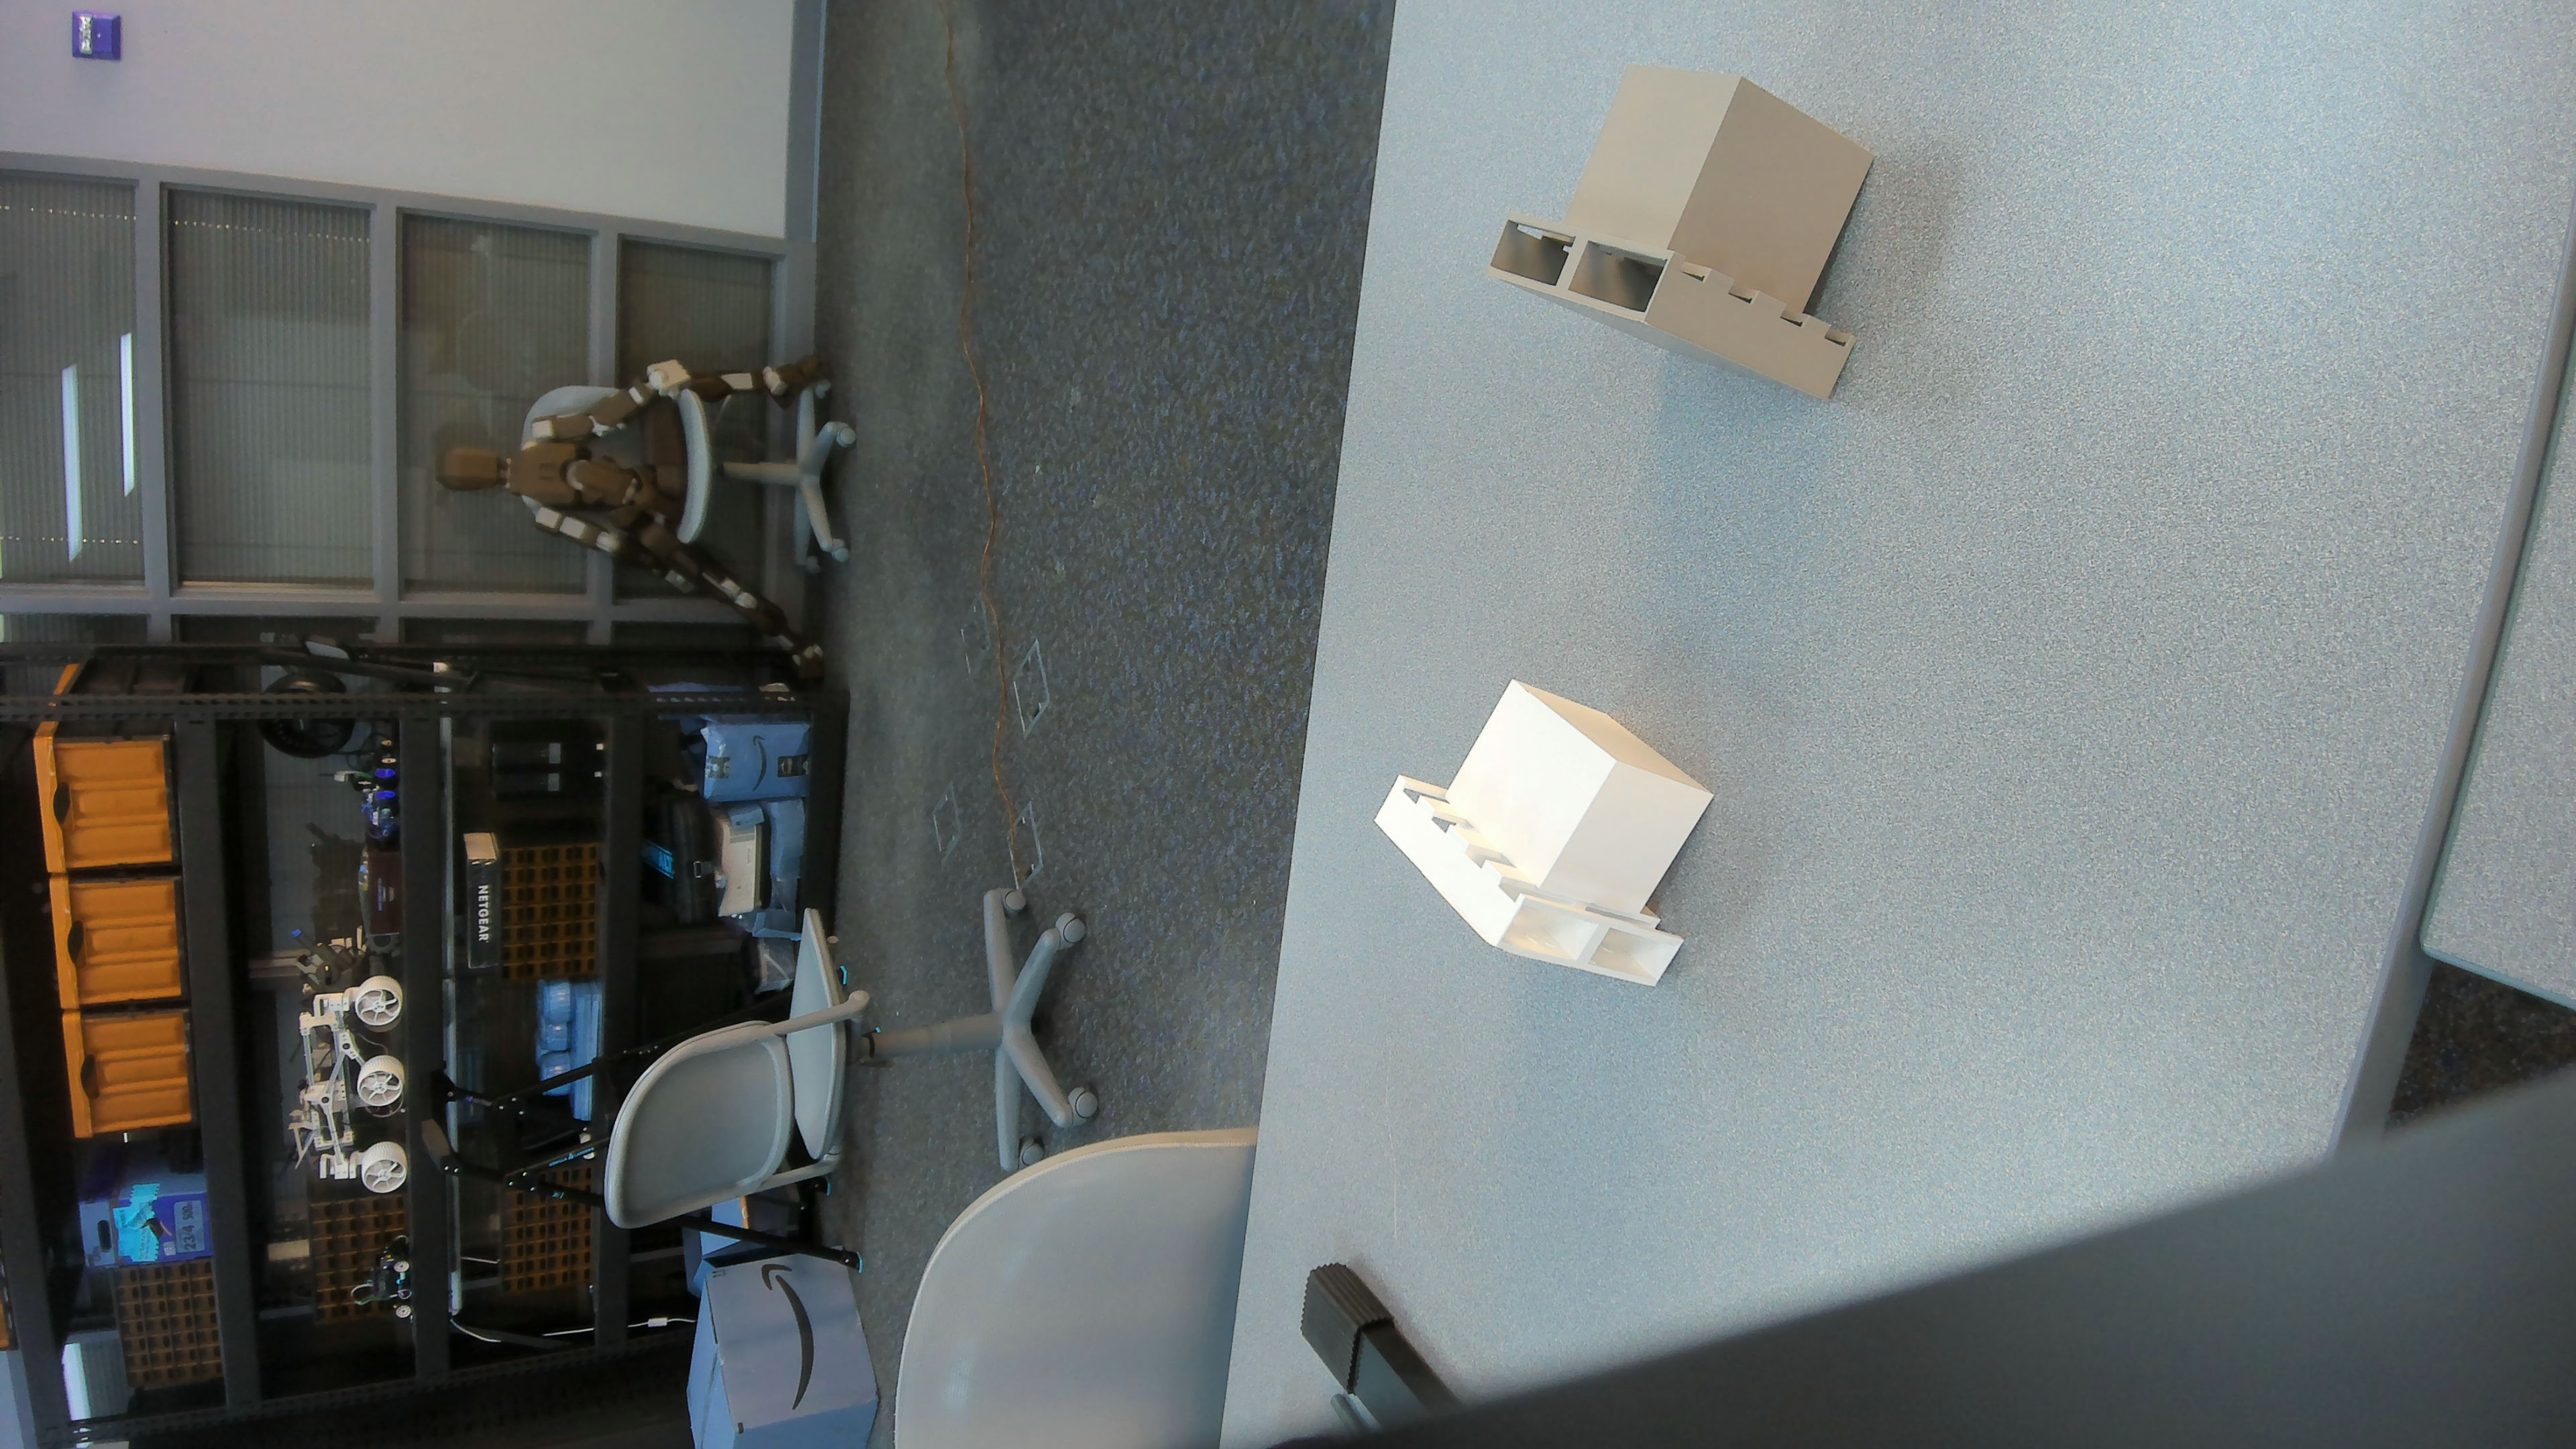grey pallet: (1479, 53, 1888, 426)
white pallet: (1366, 676, 1736, 1001)
